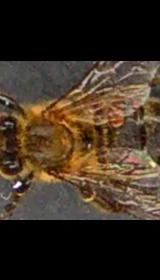varroa_mite: (95, 93, 128, 139)
